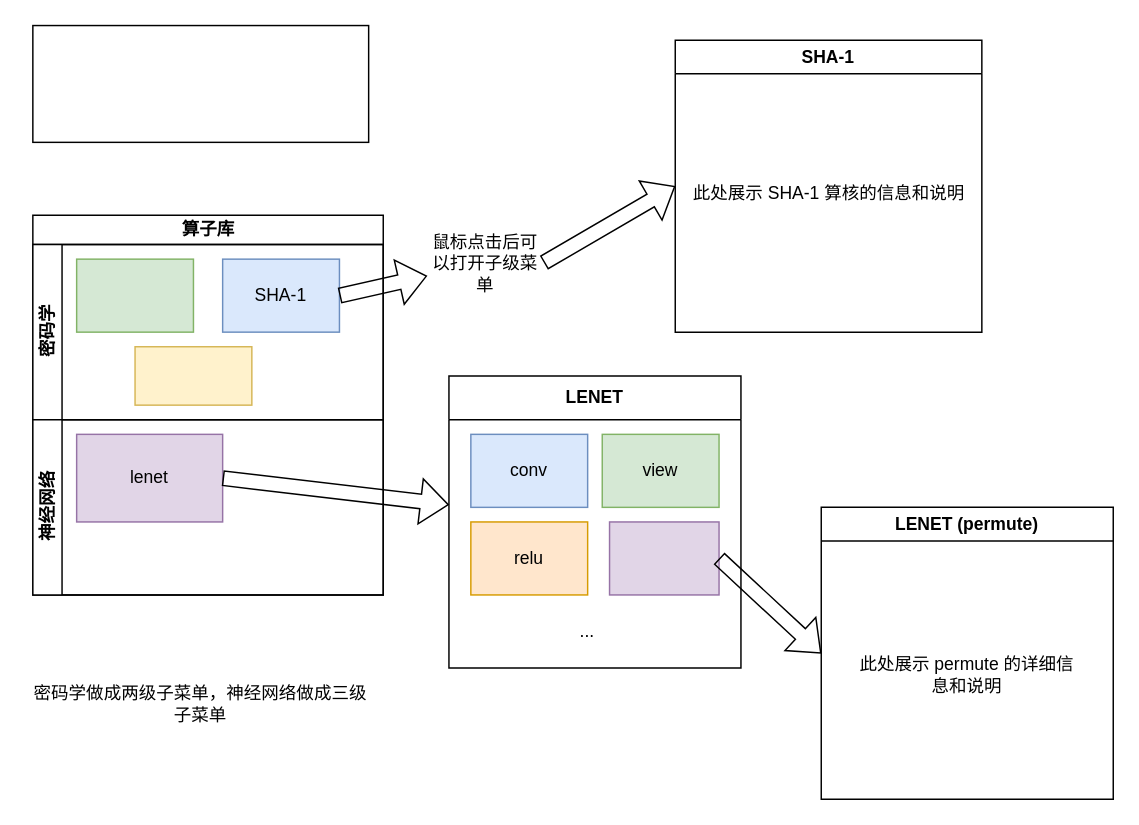
The diagram is 1139 pixels wide and 825 high, and some of its shapes have lost their labels. Here are the shapes that lost their labels. From the top down, the centre of each, then its label:
At [200,83]: "算子库展示".
At [134,295]: "MD5".
At [193,375]: "SM3".
At [663,557]: "permute".
